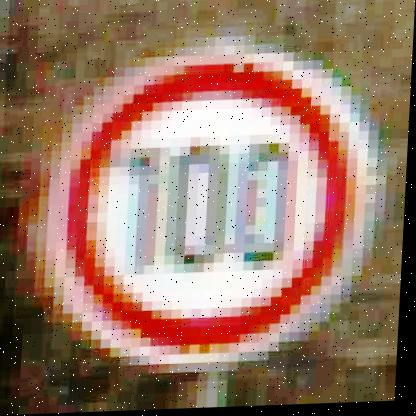Speed Limit -100-: (38, 34, 385, 371)
